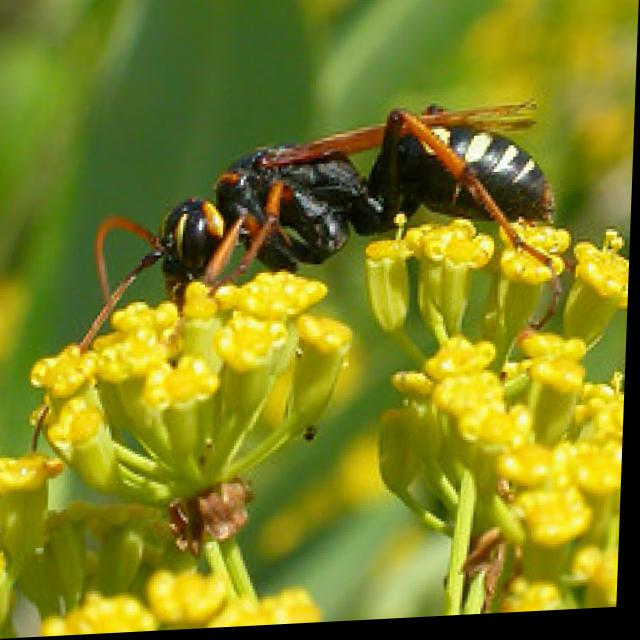Guepe: (52, 78, 584, 381)
